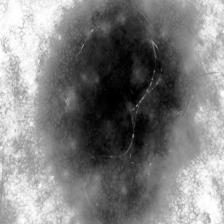Benign Marking or Mole: (36, 0, 198, 224)
